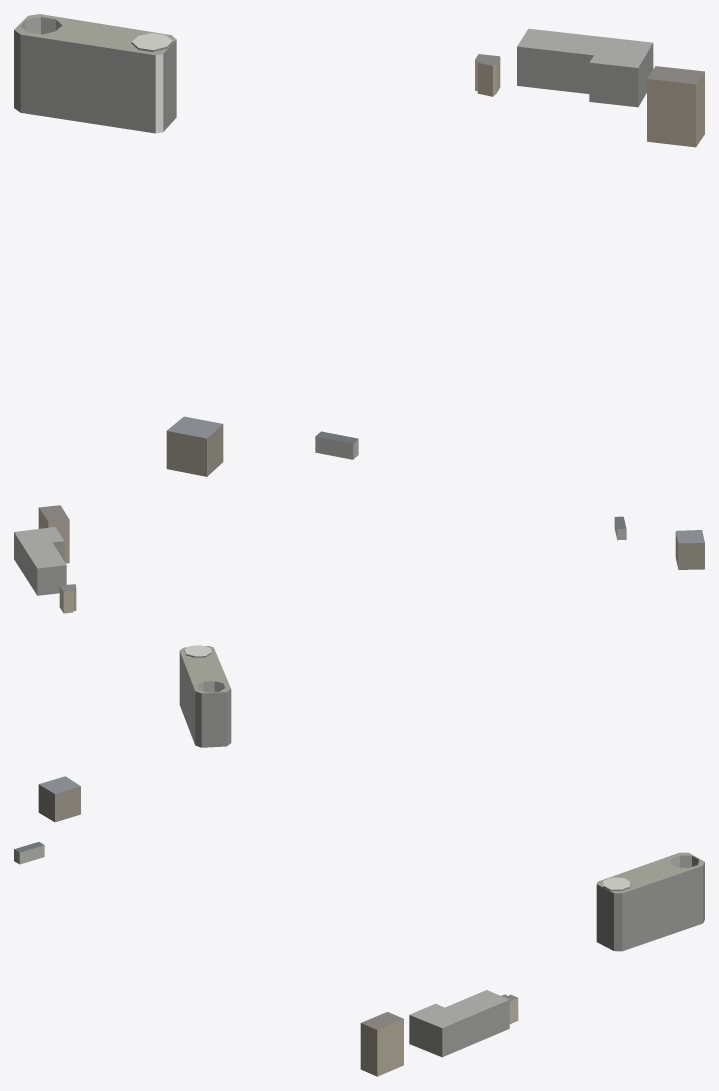
3 views of the same model, one above another, from view 1: azimuth 30°, elevation 25°; view 2: azimuth 150°, elevation 25°; view 3: azimuth 270°, elevation 25° (orthographic). The views are drawn at different scales.
Visible parts, largest first — view 1: tuile; view 2: tuile; view 3: tuile.
Part boxes in pixels (box(x1,y1,x2,y2)): tuile: box(14, 14, 704, 476); tuile: box(14, 505, 704, 747); tuile: box(14, 776, 704, 1076).
Bounding box in the file's own units: 242 × 24.78 × 261.
